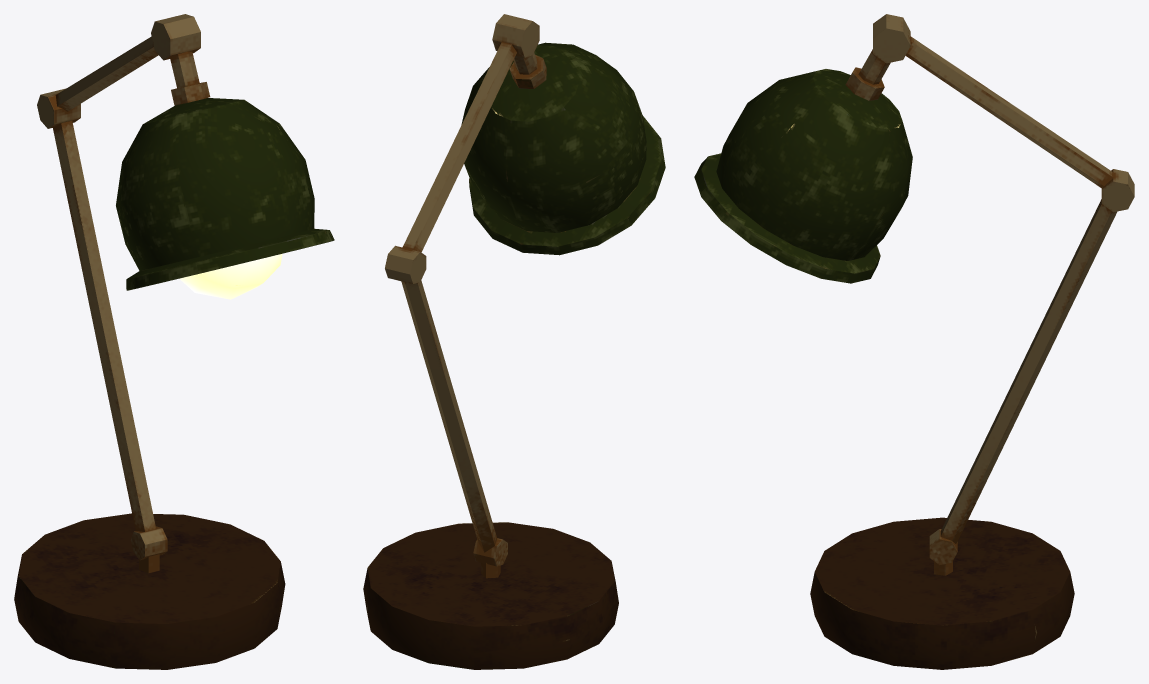
The model's file is PROP_DeskLamp_A_v01.fbx.
3 views of the same model, side by side, from view 1: azimuth 30°, elevation 25°; view 2: azimuth 150°, elevation 25°; view 3: azimuth 270°, elevation 25° (orthographic). The views are drawn at different scales.
Parts seen in each view (by area): view 1: Cylinder; view 2: Cylinder; view 3: Cylinder.
Boxes of the visible parts, <box> form: Cylinder: <box>14,14,334,669</box>; Cylinder: <box>363,14,665,669</box>; Cylinder: <box>694,14,1134,669</box>.
Size of the model in its own units: 17.18 by 42.64 by 28.61.
1 material, 1 textured.
